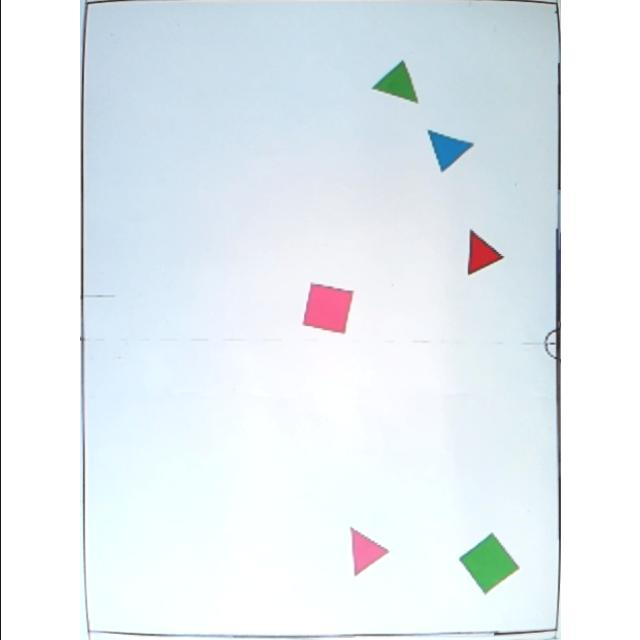blueTriangle: (424, 129, 474, 173)
greenSquare: (458, 531, 520, 595)
greenTriangle: (372, 60, 421, 106)
pinkSquare: (300, 282, 356, 334)
pinkTriangle: (351, 526, 392, 578)
redTriangle: (466, 230, 506, 276)
